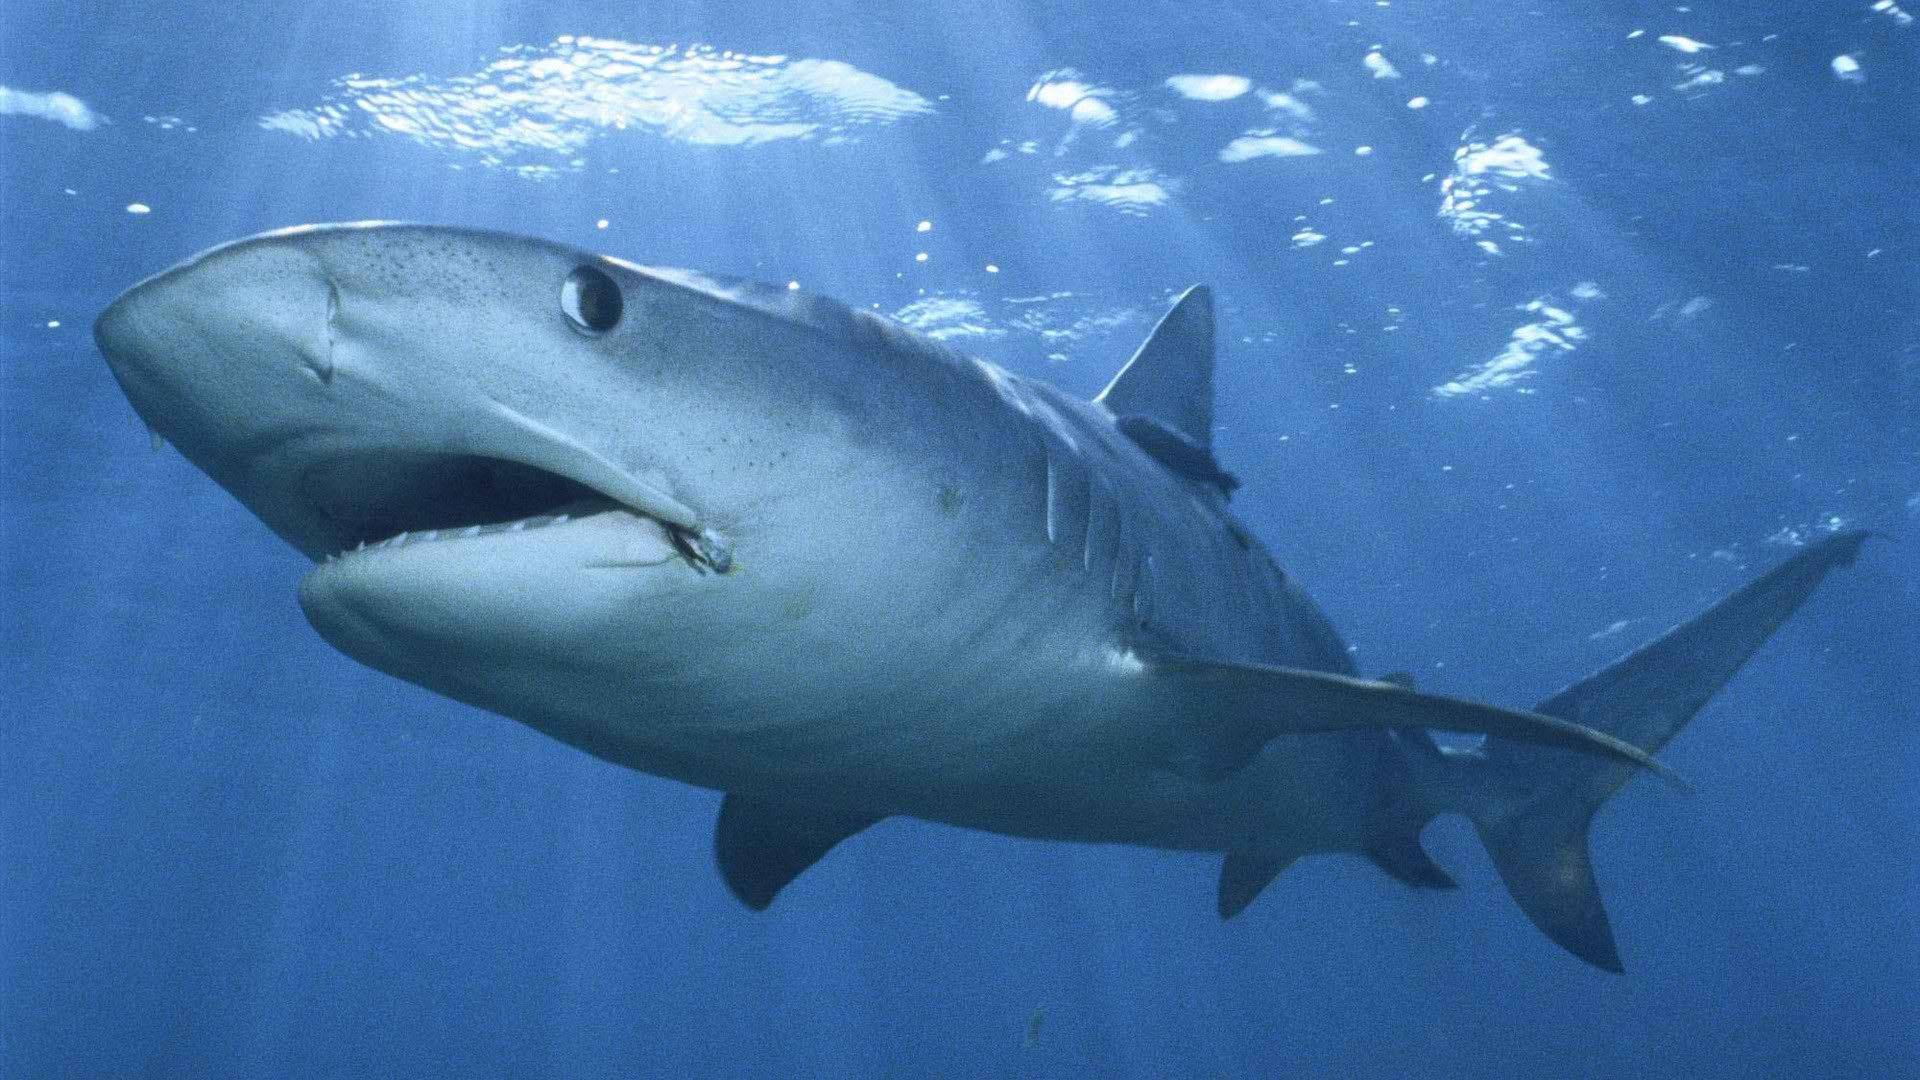shark: (99, 227, 1853, 975)
